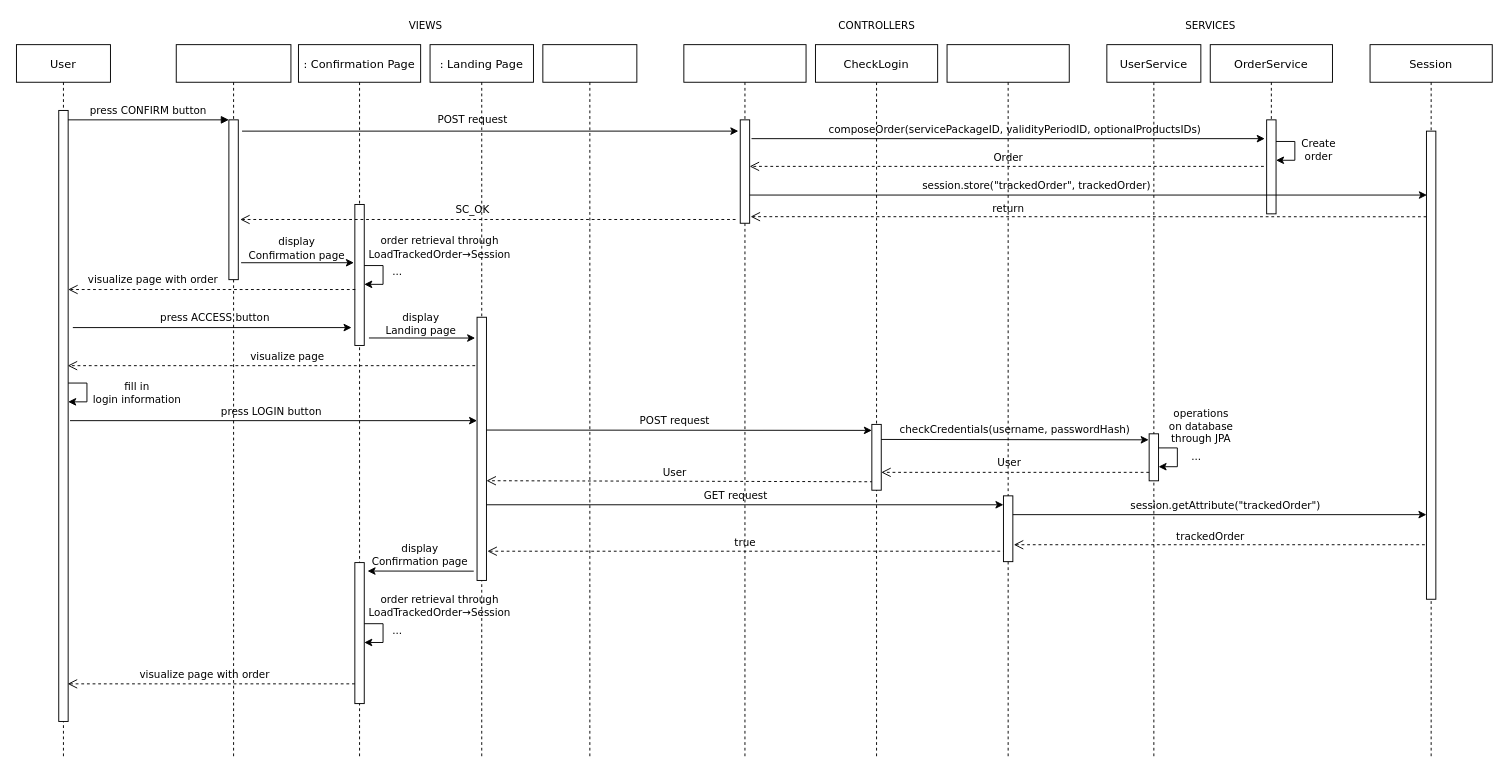
Image size: 1509x776. Some labels were removed from this diagram. The shapes that lost their labels are listed below. From the top down, each one's box as (x1, y1, x2, y2) in pixels, then its label:
(175, 44, 291, 759): : BuyService page
(542, 44, 637, 759): : Home page
(683, 44, 806, 759): CreateOrder
(946, 44, 1069, 759): CheckTrackedOrder
